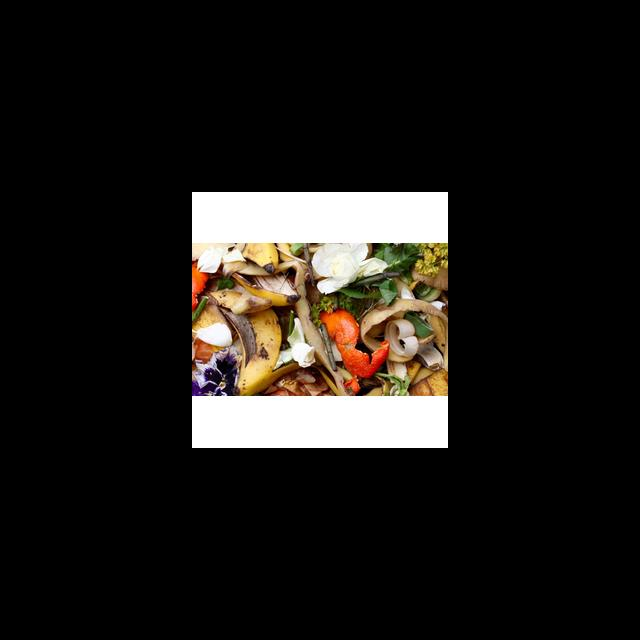food_waste: (194, 243, 447, 394)
